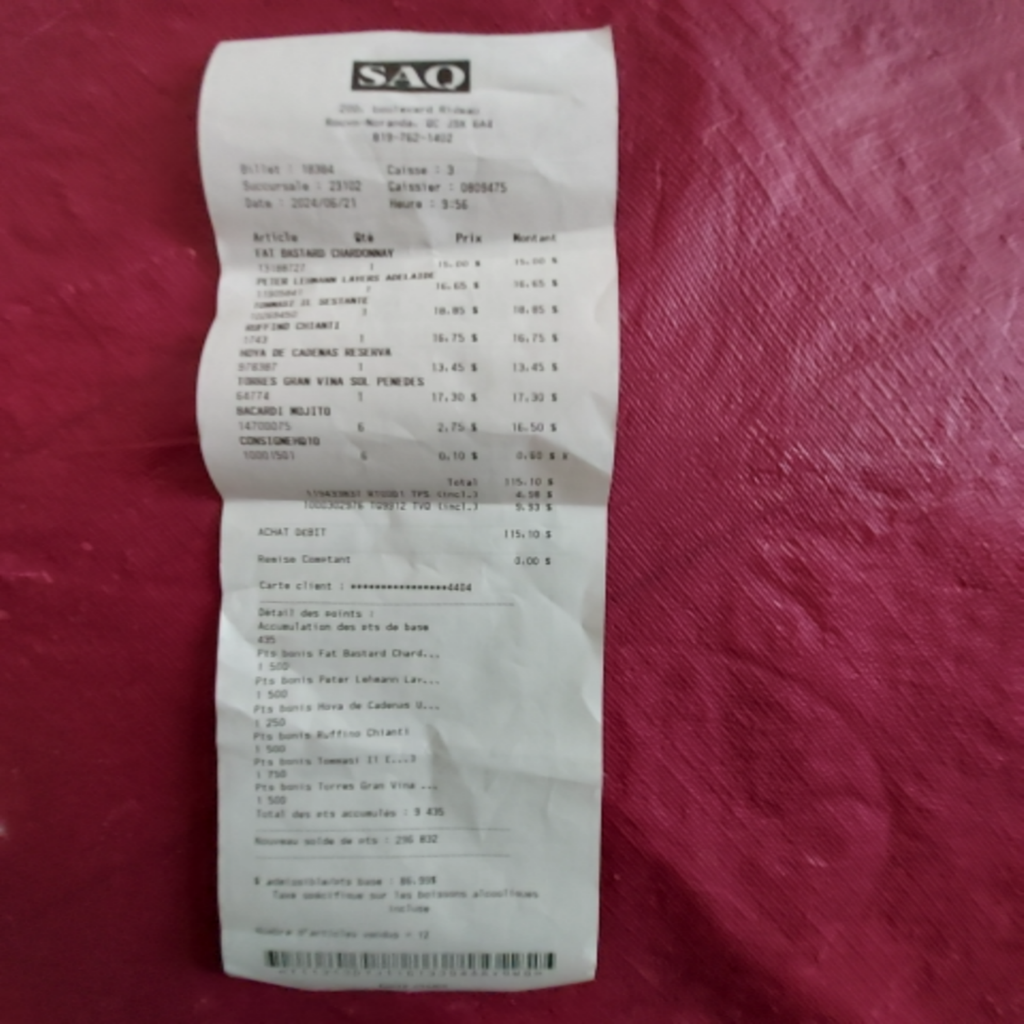recipt: (189, 25, 615, 993)
